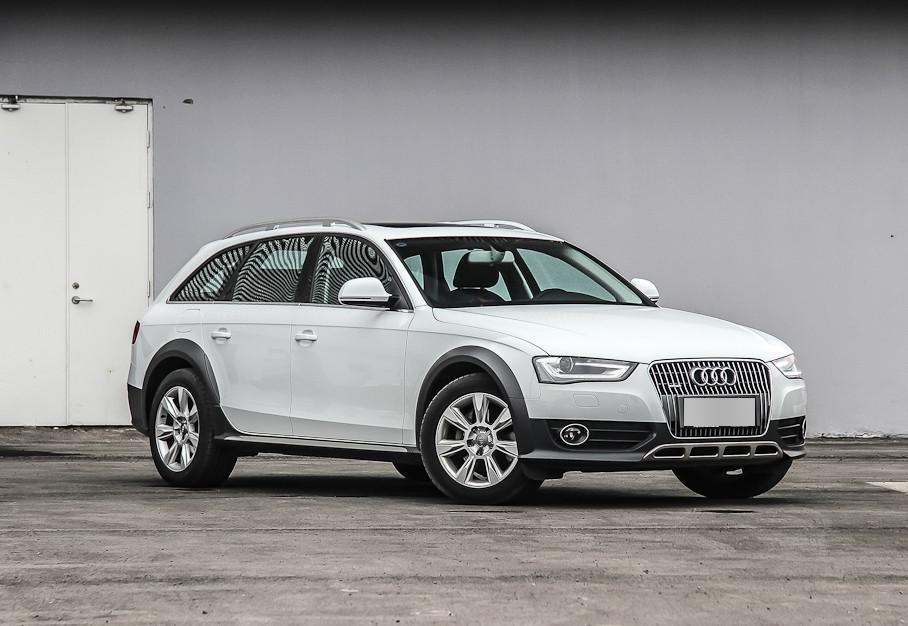Wagon: (126, 214, 810, 504)
